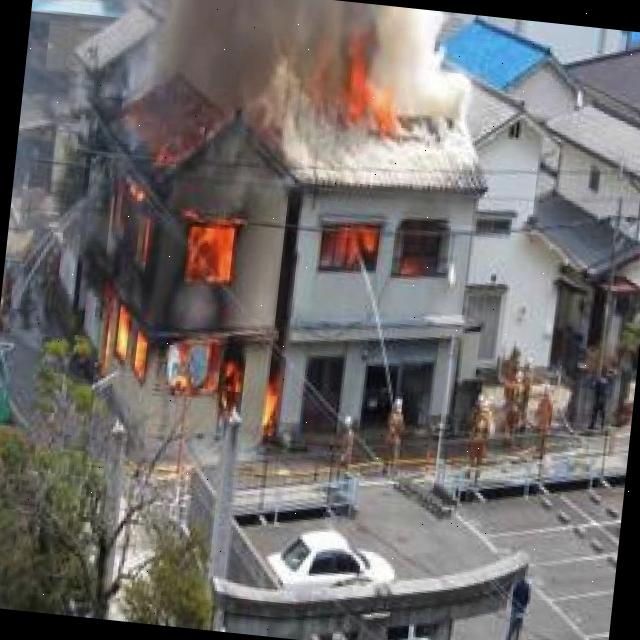fire: (79, 157, 303, 443), (324, 25, 426, 140), (318, 211, 436, 278)
